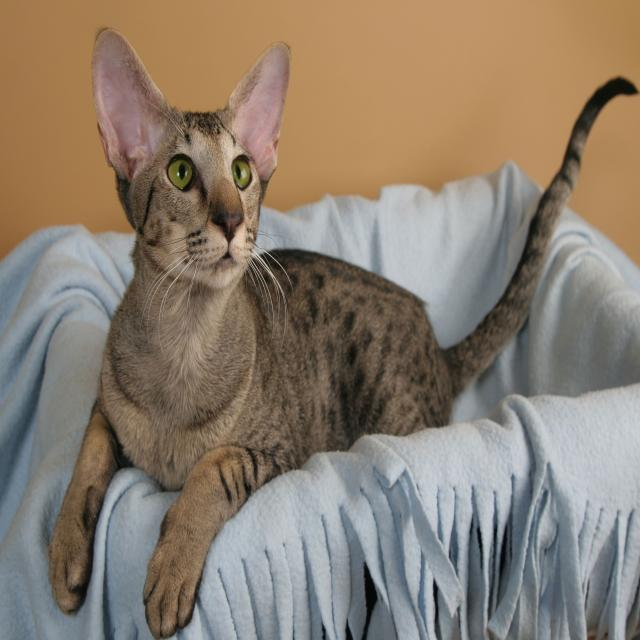Oriental: (45, 19, 640, 639)
